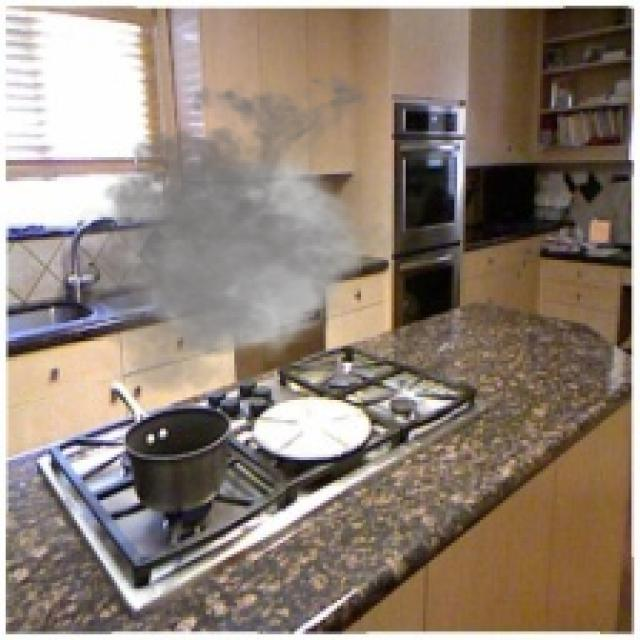smoke: (54, 63, 432, 408)
